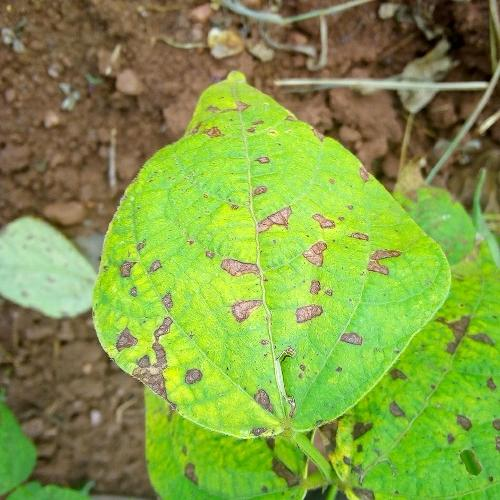hawar: (104, 145, 439, 394), (402, 294, 497, 490), (150, 411, 382, 488)
